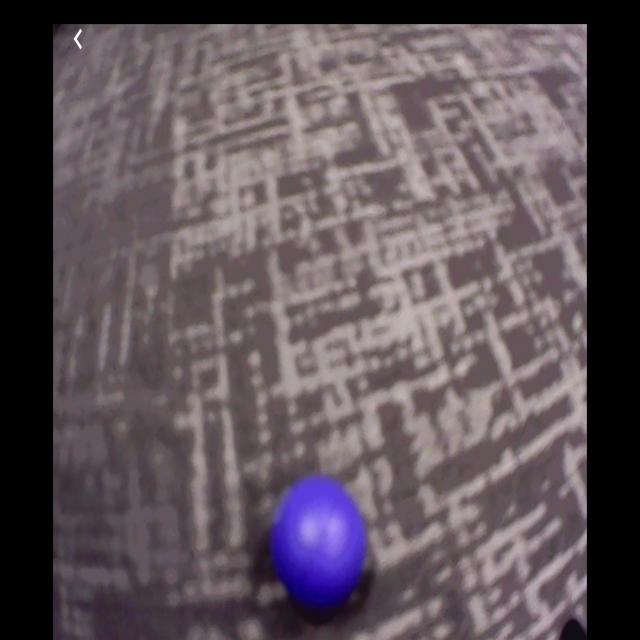ball: (275, 479, 367, 608)
